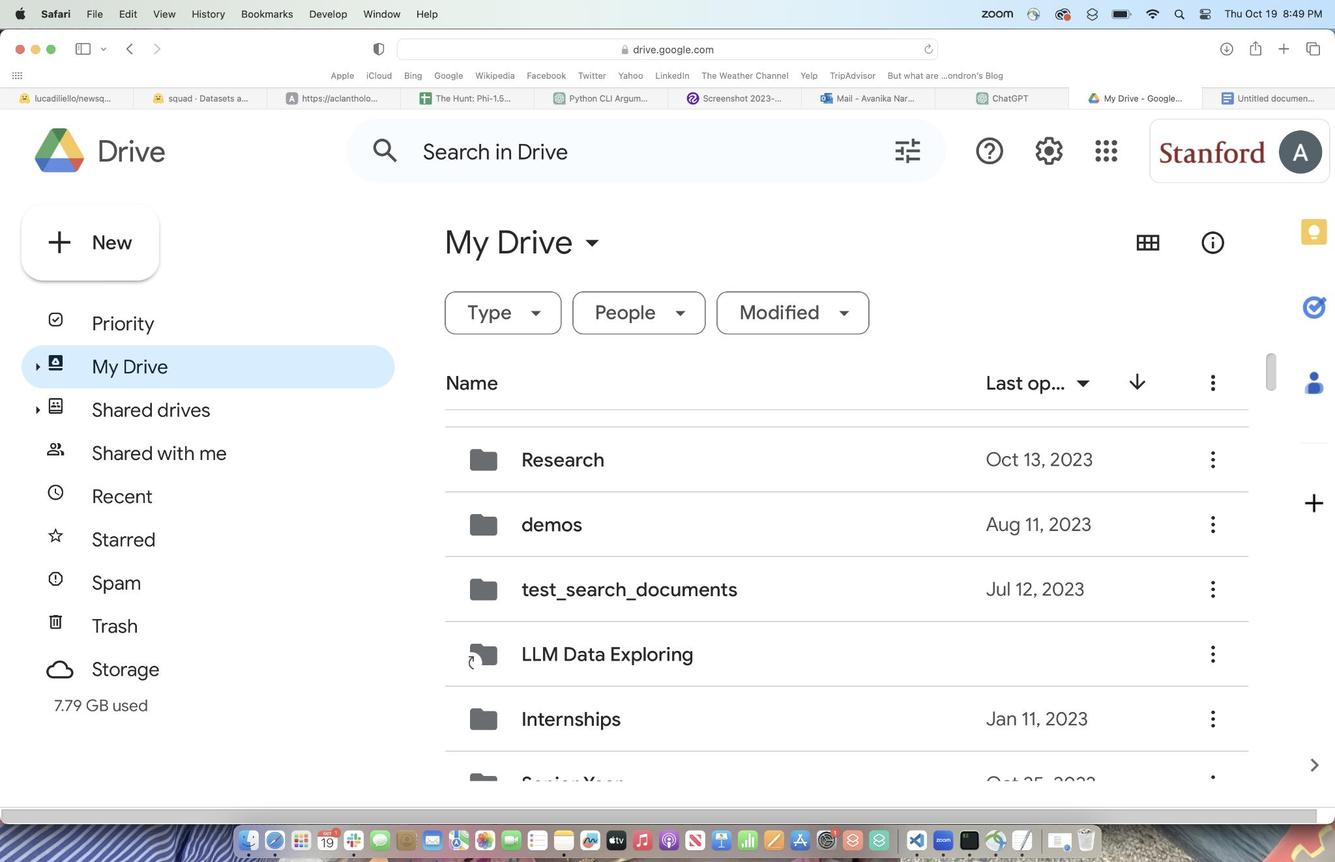webelement: (352, 120, 946, 181), (446, 686, 836, 747), (442, 429, 819, 490), (441, 496, 823, 556), (445, 625, 830, 683), (445, 563, 829, 618), (17, 396, 358, 434), (22, 207, 163, 283), (17, 349, 223, 391), (26, 482, 266, 517), (40, 606, 225, 650), (28, 440, 247, 477), (40, 520, 244, 559), (35, 559, 213, 602), (21, 305, 202, 345), (1032, 119, 1074, 177)
